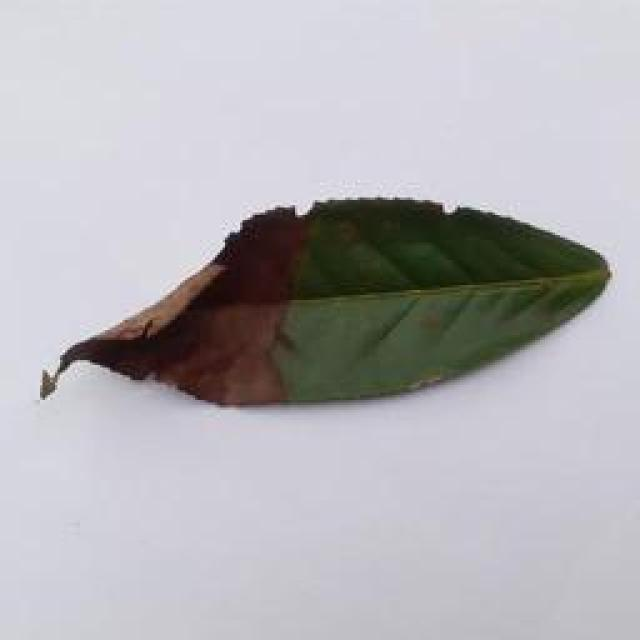Brown Blight: (34, 174, 622, 423)
